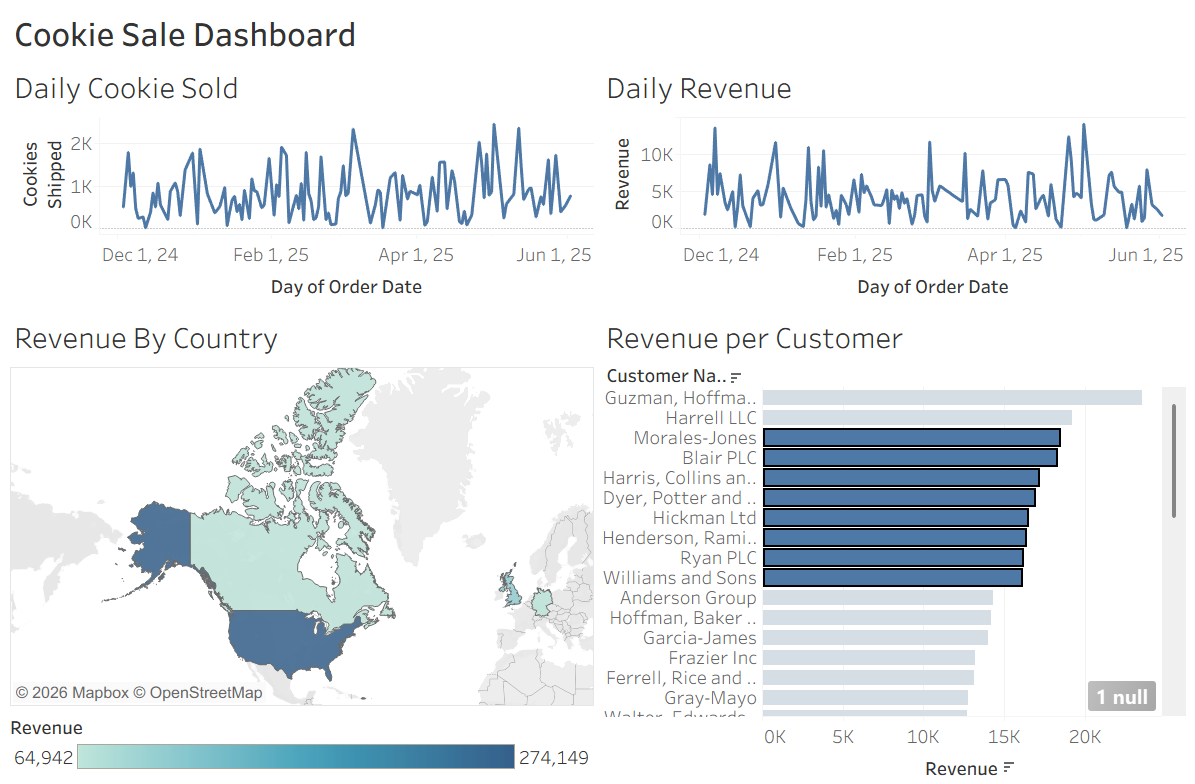

Layout of this report page (visuals, bound fields, positions):
{"tool":"tableau","page":{"name":"Cookie Sales Dashboard","canvas":[1200,800],"ordinal":0},"visuals":[{"type":"title","box":[8,8,1184,52]},{"type":"worksheet","title":"Daily Cookie Sold","mark":"Automatic","rows":["Cookies Shipped"],"cols":["Order Date"],"box":[8,60,592,250]},{"type":"worksheet","title":"Daily Revenue","mark":"Automatic","rows":["Revenue"],"cols":["Order Date"],"box":[600,60,592,250]},{"type":"worksheet","title":"Revenue By Country","mark":"Automatic","box":[8,310,592,401]},{"type":"worksheet","title":"Revenue per Customer","mark":"Automatic","rows":["Customer Name"],"cols":["Revenue"],"box":[600,310,592,482]},{"type":"legend","title":"Revenue By Country","param":"[federated.1cdk13o0nc46651dhd66i1krn7vs].[sum:Revenue:qk]","box":[8,711,592,81]}]}

Visuals, with their boxes in screenshot pixels (x1, y1, x2, y2), scaled from the page's 1200x800 canvas onto the 1195x784 screenshot:
title: 8, 8, 1187, 59
"Daily Cookie Sold" worksheet: 8, 59, 598, 304
"Daily Revenue" worksheet: 598, 59, 1187, 304
"Revenue By Country" worksheet: 8, 304, 598, 697
"Revenue per Customer" worksheet: 598, 304, 1187, 776
"Revenue By Country" legend: 8, 697, 598, 776
